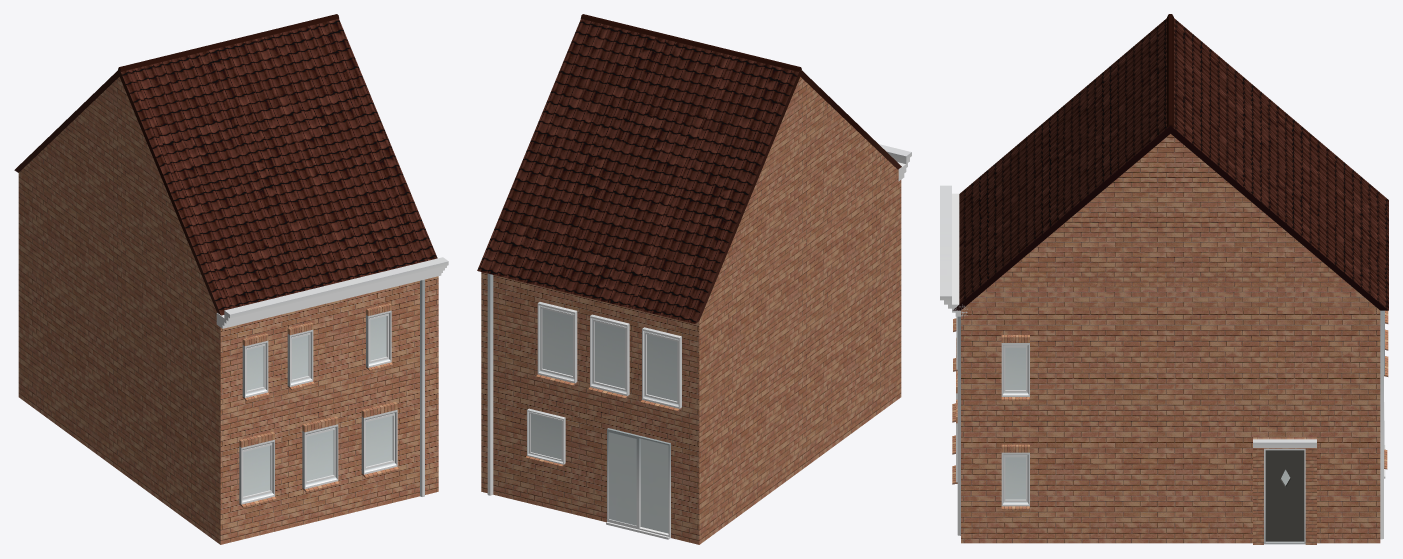
The model's file is Buorkerij_73.fbx.
3 views of the same model, side by side, from view 1: azimuth 30°, elevation 25°; view 2: azimuth 150°, elevation 25°; view 3: azimuth 270°, elevation 25° (orthographic). The views are drawn at different scales.
Parts seen in each view (by area): view 1: Buorkerij_73; view 2: Buorkerij_73; view 3: Buorkerij_73.
Part boxes in pixels (x1=…): Buorkerij_73: x1=14, y1=14, x2=448, y2=544; Buorkerij_73: x1=477, y1=14, x2=911, y2=544; Buorkerij_73: x1=940, y1=14, x2=1388, y2=544.
Bounding box in the file's own units: 6.21 × 10.44 × 10.15.
